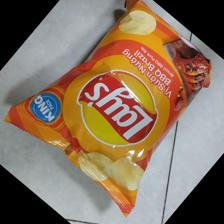Lays: (2, 1, 213, 220)
